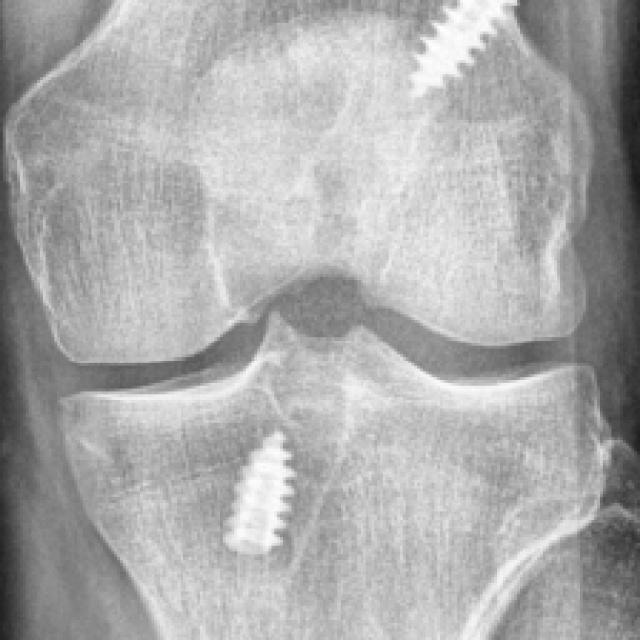femur: (4, 0, 596, 365)
tibia: (56, 310, 612, 640)
